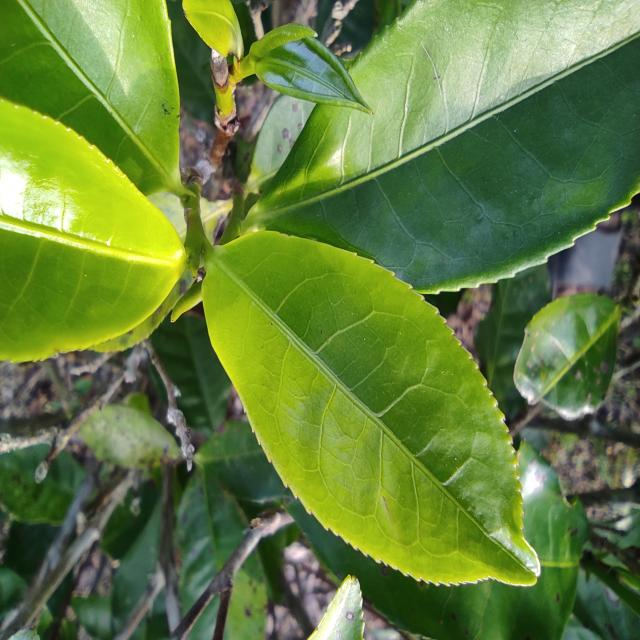Category B(2-4 days): (183, 204, 550, 606)
